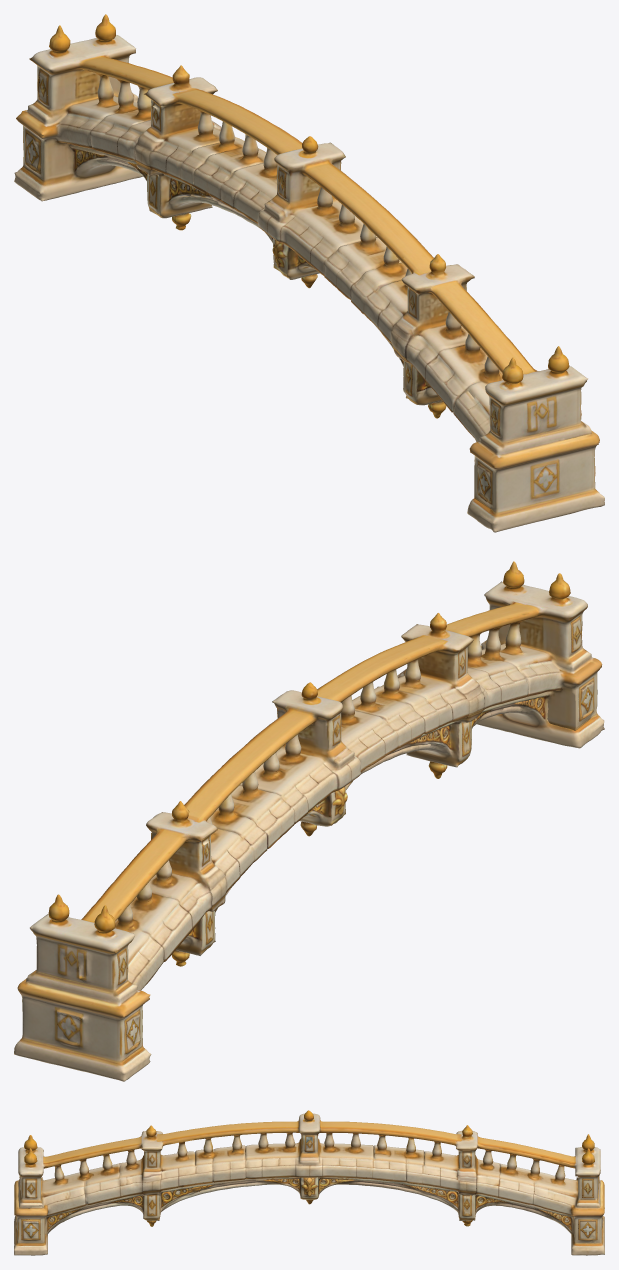
The picture shows the model from 3 angles, top to bottom: view 1: azimuth 30°, elevation 25°; view 2: azimuth 150°, elevation 25°; view 3: azimuth 270°, elevation 25°; orthographic projection. The views are drawn at different scales.
Visible parts, largest first — view 1: tripo_node_f8c1aa83-4708-4e00-b7d0-7b7885127b2b; view 2: tripo_node_f8c1aa83-4708-4e00-b7d0-7b7885127b2b; view 3: tripo_node_f8c1aa83-4708-4e00-b7d0-7b7885127b2b.
Part boxes in pixels (bbox=[...]): tripo_node_f8c1aa83-4708-4e00-b7d0-7b7885127b2b: bbox=[14, 14, 604, 532]; tripo_node_f8c1aa83-4708-4e00-b7d0-7b7885127b2b: bbox=[14, 561, 604, 1081]; tripo_node_f8c1aa83-4708-4e00-b7d0-7b7885127b2b: bbox=[14, 1110, 604, 1255].
Size of the model in its own units: 0.1322 by 0.2347 by 0.9804.
Materials: 1 (1 with a texture image).
